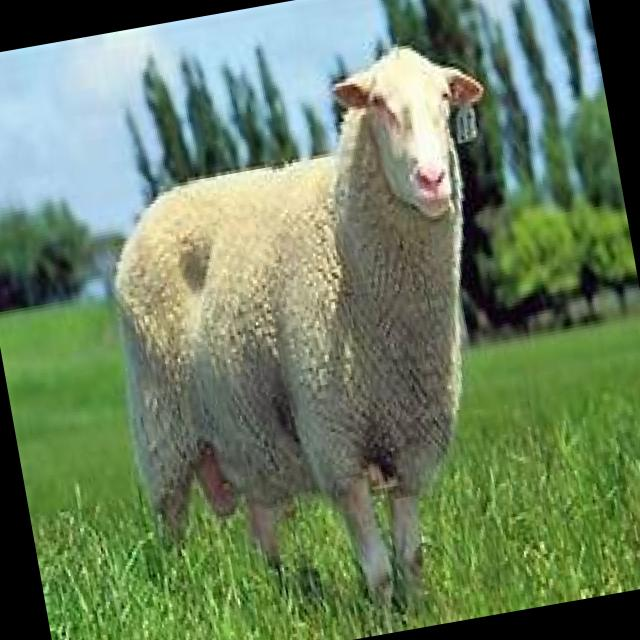animal: (68, 26, 569, 640)
